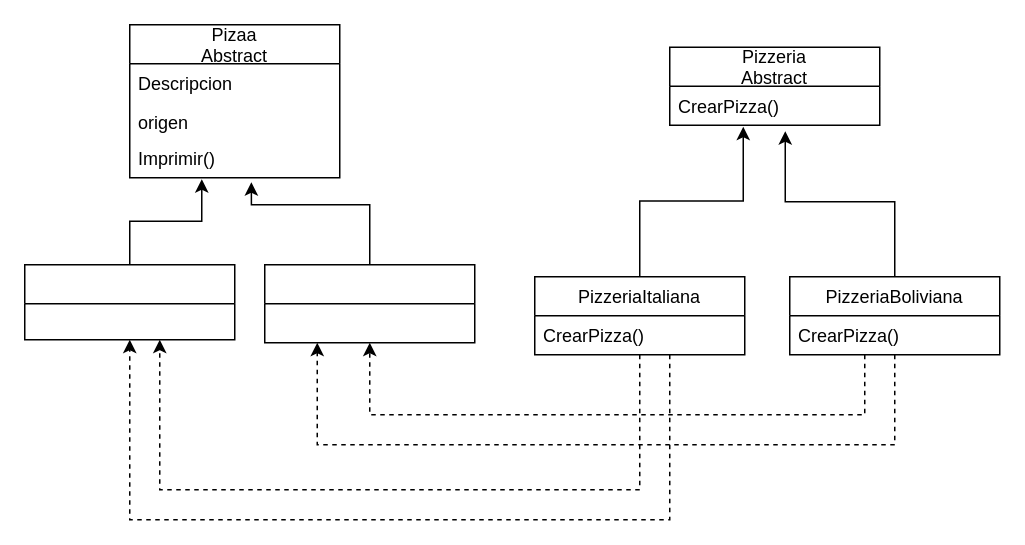
The diagram is 1025 pixels wide and 545 high, and some of its shapes have lost their labels. The shapes that lost their labels are listed below. From the top down, each one's centre as x and y in pixels, then its label:
At pixel 129 301: "Pizaa Hawaiana".
At pixel 369 303: "Pizaa Napolitana".
